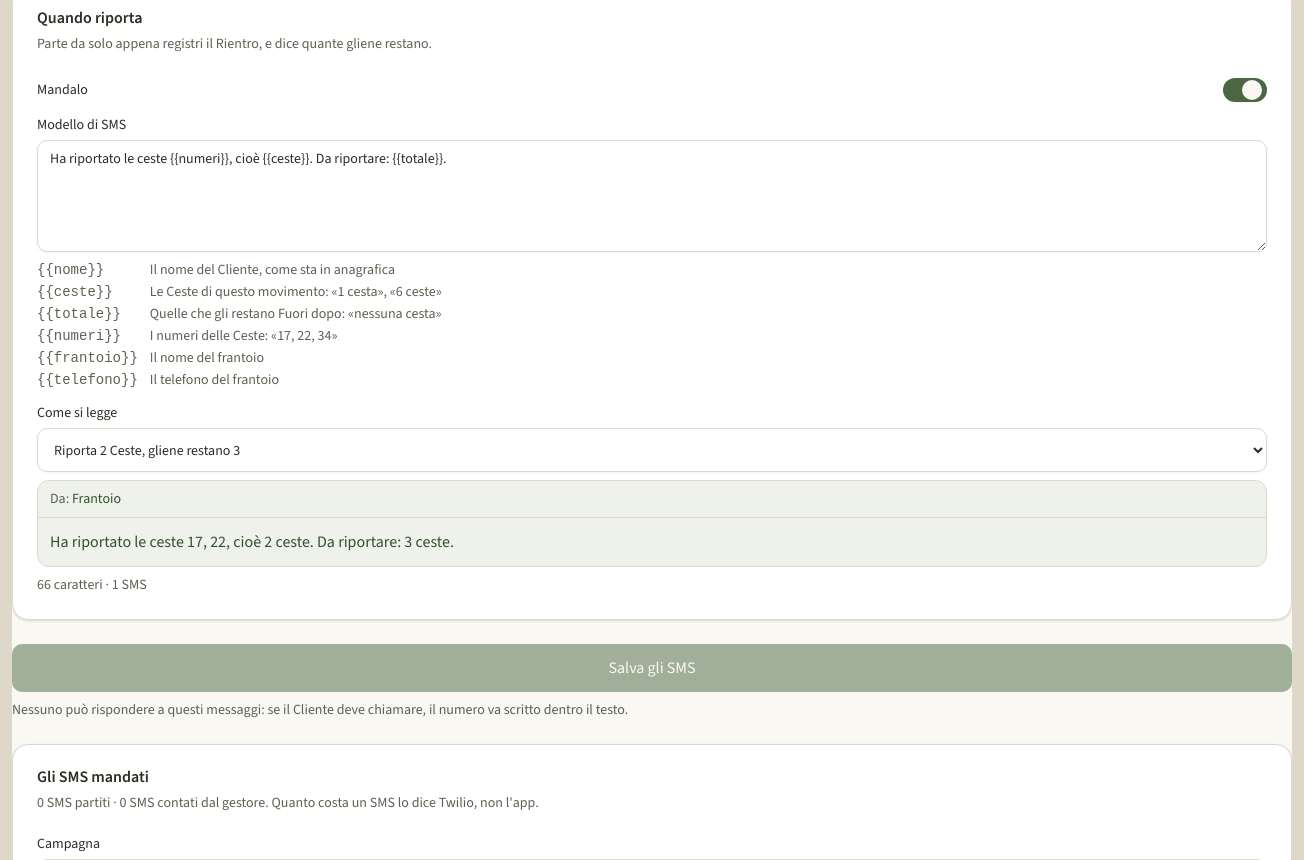
Scenario: a partial Rientro leaves some out, and a full one leaves none
(page scrolled)
Select "Riporta 2 Ceste, gliene restano 3" in the dropdown labelled "Come si legge" at (652, 450), box [37,428,1267,472]
Expected: the text with class "whitespace-pre-wrap" reads "Ha riportato le ceste 17, 22, cioè 2 ceste. Da riportare: 3 ceste.", [50,531,454,552]
Select "Riporta l'ultima che aveva" in the dropdown labelled "Come si legge" at (652, 450), box [37,428,1267,472]
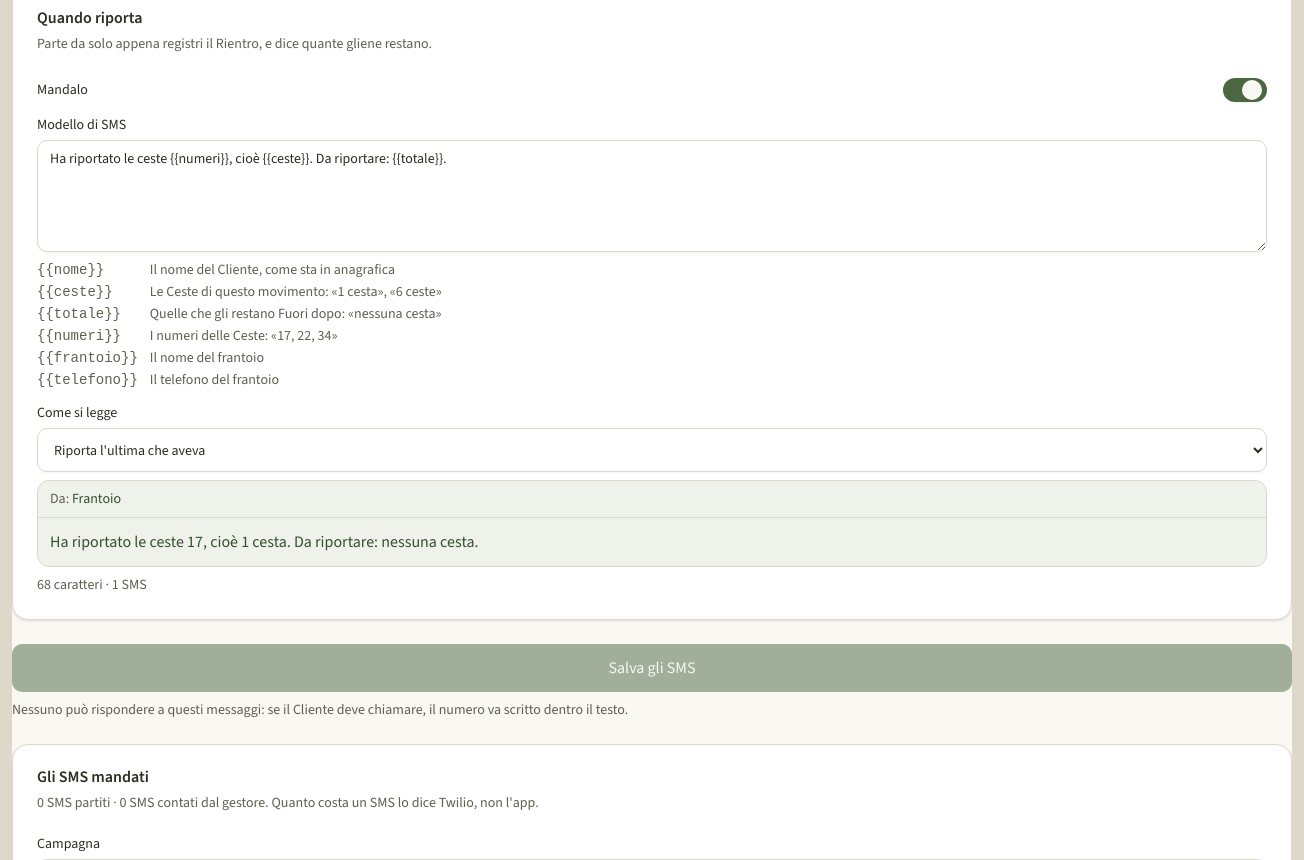
Now the text with class "whitespace-pre-wrap" reads "Ha riportato le ceste 17, cioè 1 cesta. Da riportare: nessuna cesta.", box [50,531,478,552]
Select "Riporta tutte e 3 quelle che aveva" in the dropdown labelled "Come si legge" at (652, 450), box [37,428,1267,472]
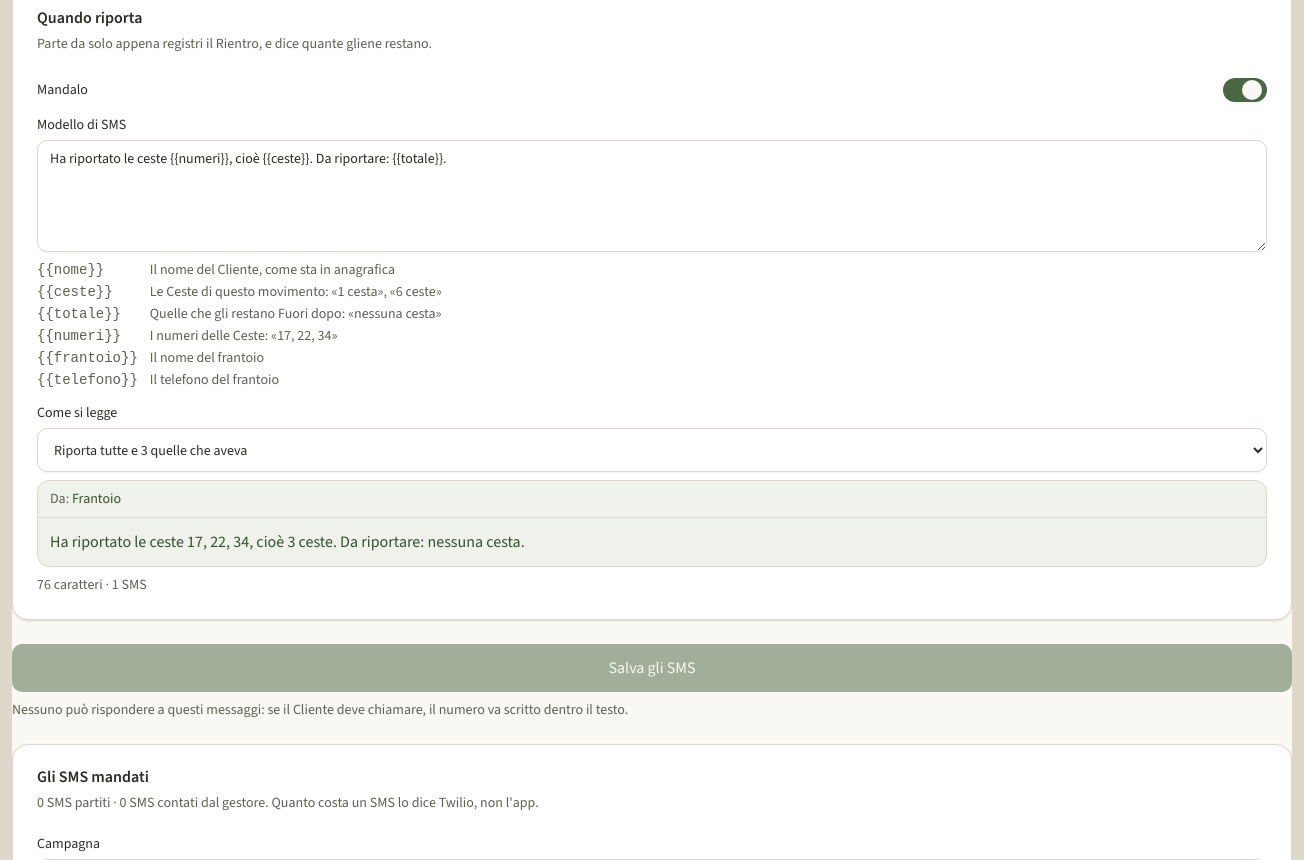
Now the text with class "whitespace-pre-wrap" reads "Ha riportato le ceste 17, 22, 34, cioè 3 ceste. Da riportare: nessuna cesta.", box [50,531,525,552]
